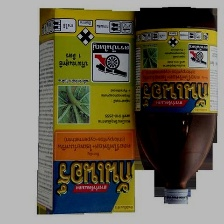carton: (32, 7, 137, 218)
insecticide: (131, 4, 222, 208)
